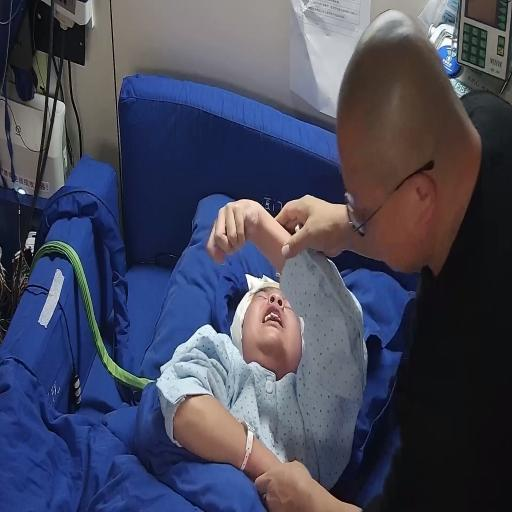Seizure: (244, 273, 308, 371)
